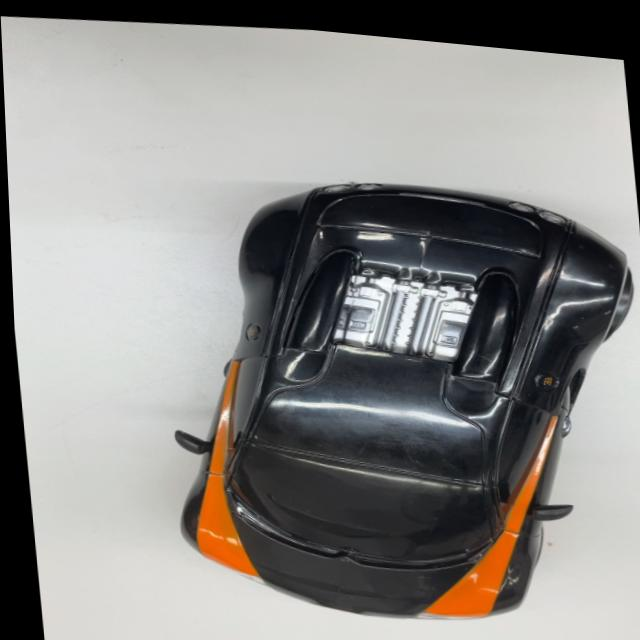vehicle_body: (133, 146, 640, 640)
